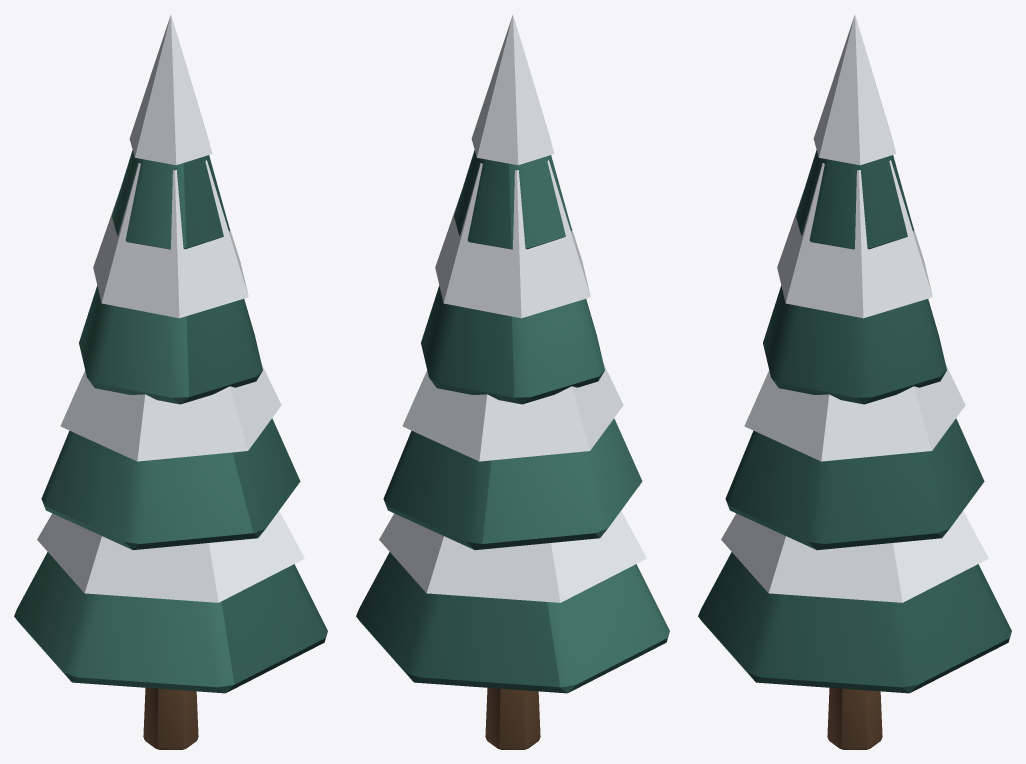
File: Fir_B.fbx
The picture shows the model from 3 angles, left to right: view 1: azimuth 30°, elevation 25°; view 2: azimuth 150°, elevation 25°; view 3: azimuth 270°, elevation 25°; orthographic projection.
Visible parts, largest first — view 1: Fir_B; view 2: Fir_B; view 3: Fir_B.
Part boxes in pixels (bbox=[...]): Fir_B: bbox=[14, 15, 327, 749]; Fir_B: bbox=[356, 15, 669, 749]; Fir_B: bbox=[698, 15, 1011, 749].
Bounding box in the file's own units: 1.25 × 3.32 × 1.3.
